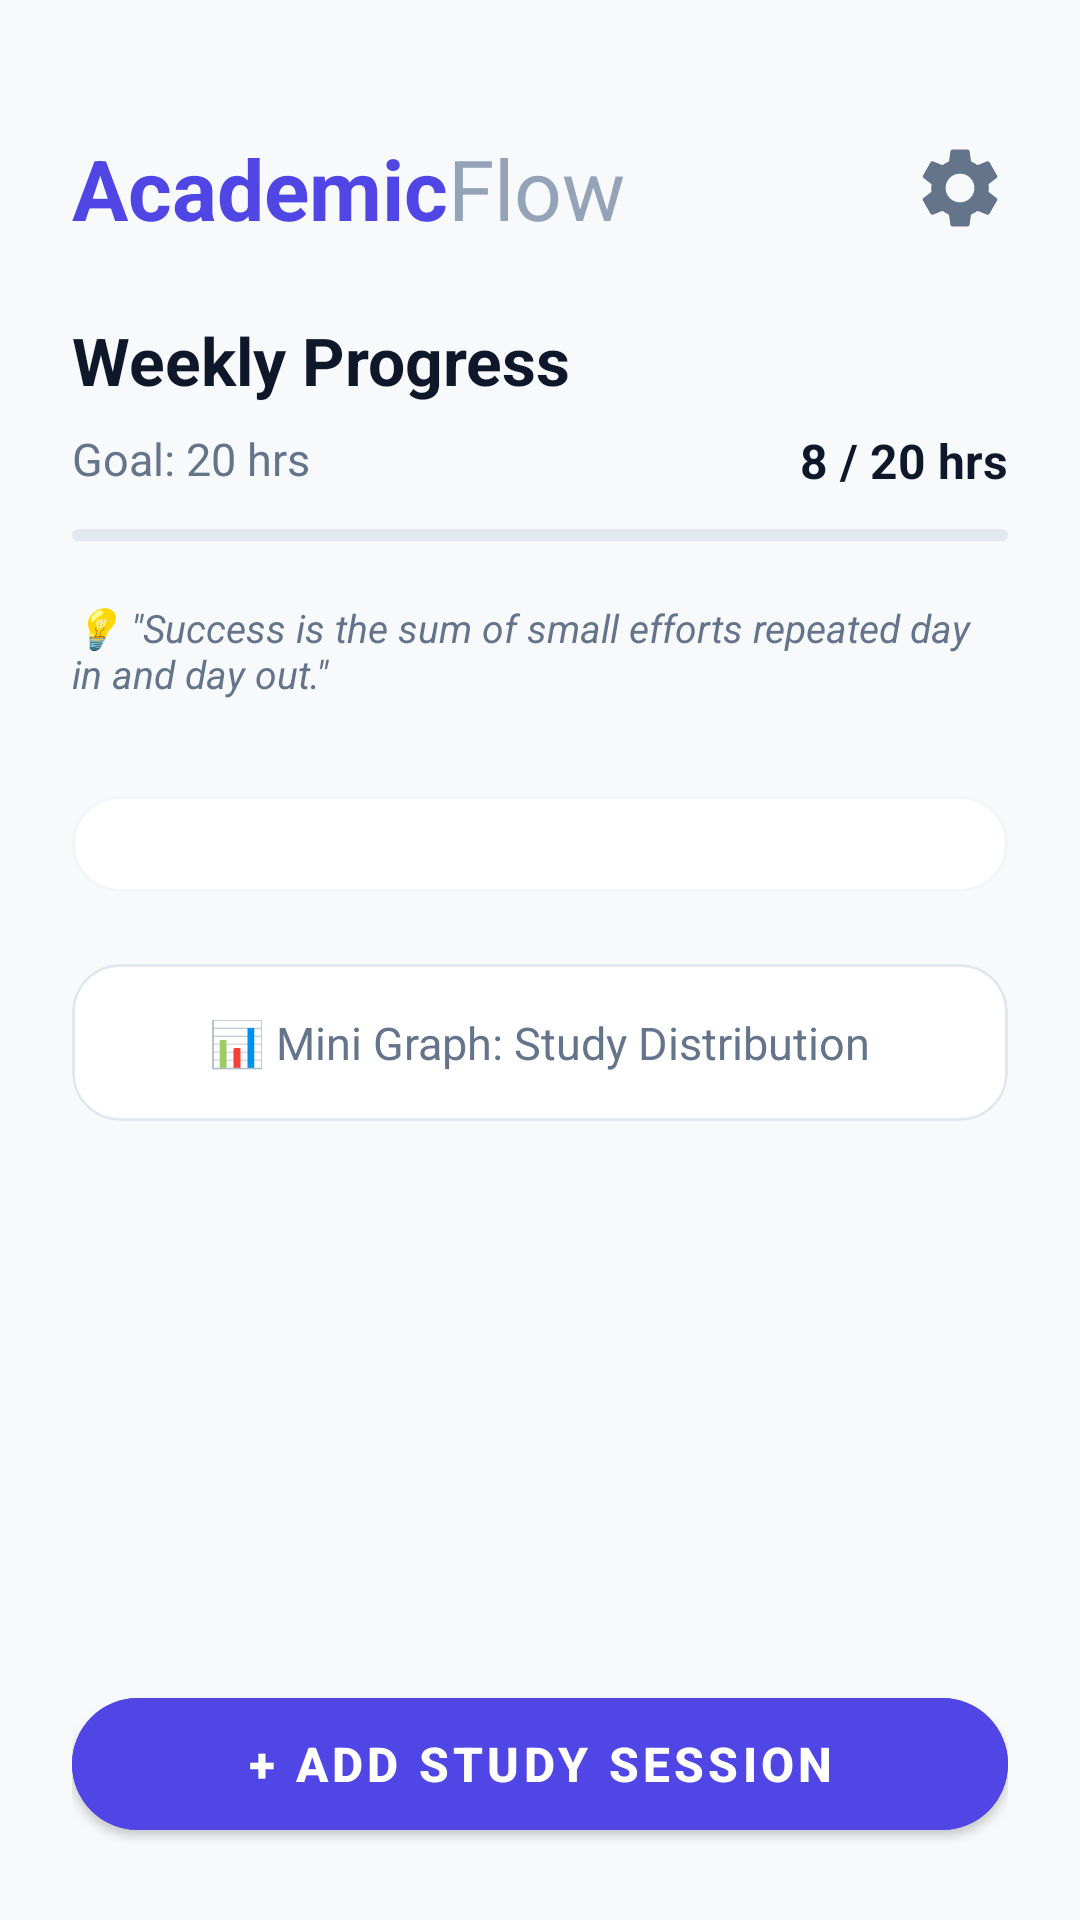

Named icons in this screenshot (1080px×1920px) and their centers, [x,y]:
Settings: [960,188]
